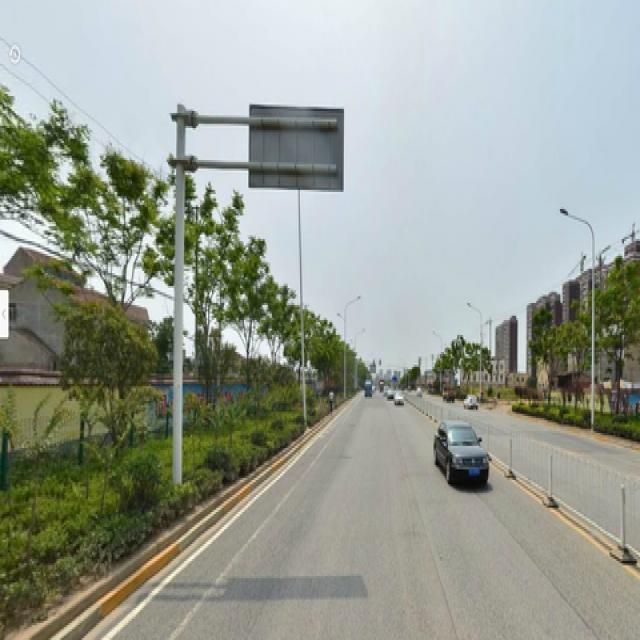koel: (13, 124, 136, 286), (192, 226, 229, 386), (245, 252, 275, 378), (599, 271, 629, 367), (564, 318, 585, 405), (285, 296, 299, 365)
